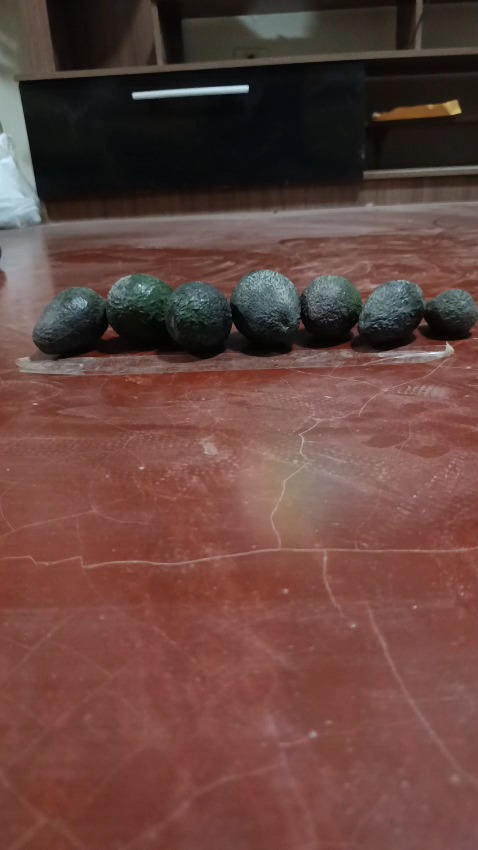Primera: (230, 269, 301, 347), (104, 271, 176, 345), (163, 281, 230, 354)
Segunda: (31, 286, 107, 356), (357, 279, 425, 347), (298, 274, 363, 342)
Tercera: (422, 288, 477, 339)
